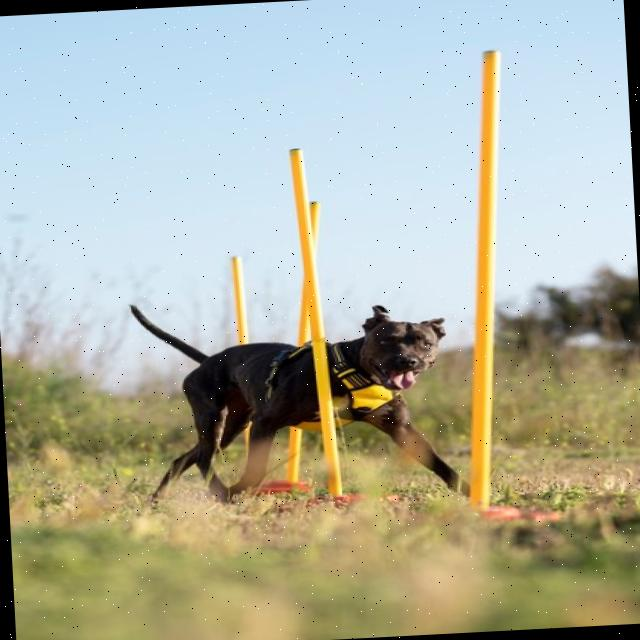Dog: (131, 287, 481, 514)
